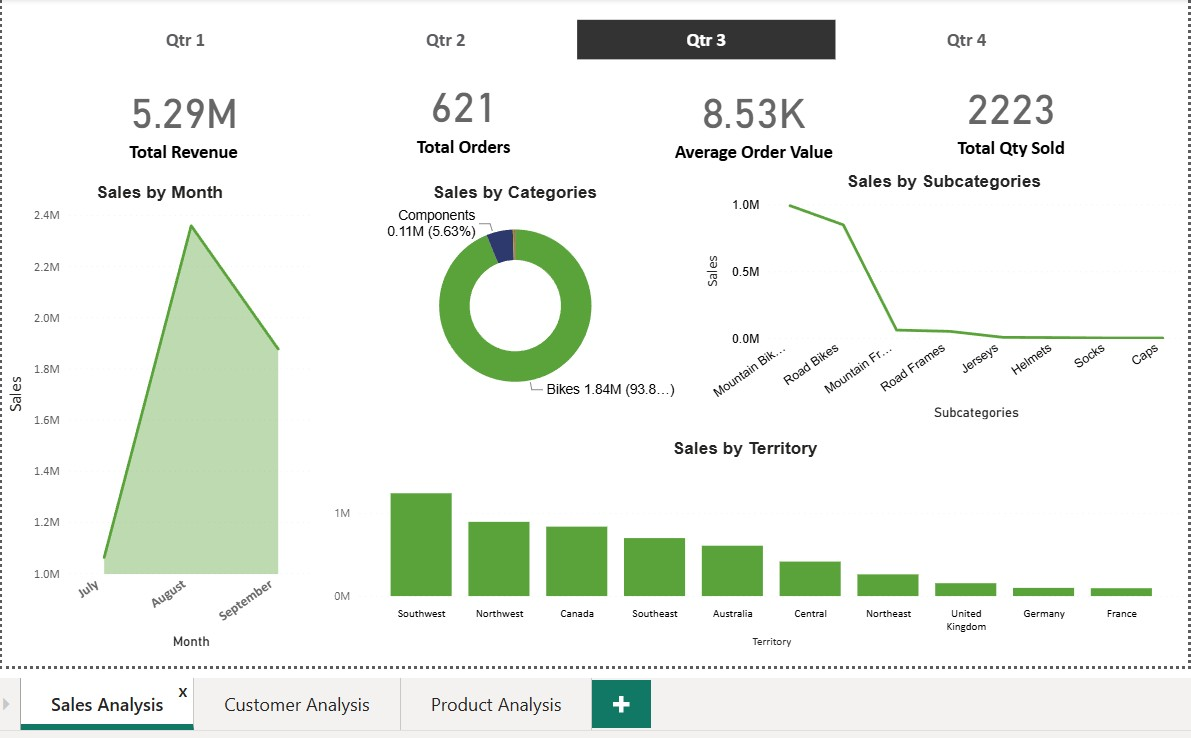

Layout of this report page (visuals, bound fields, positions):
{"tool":"powerbi","page":{"name":"Sales Analysis","canvas":[1280,720],"ordinal":0},"visuals":[{"type":"columnChart","fields":{"Y":["Sum(salesorderheader.SubTotal)"],"Category":["salesterritory.TName"]},"box":[323.6,475.7,956.2,229.8],"z":0},{"type":"card","fields":{"Values":["salesorderheader.Total Revenue"]},"box":[81.1,76.3,228.9,111.3],"z":1000},{"type":"card","fields":{"Values":["salesorderheader.Total Orders"]},"box":[377,69.6,241.1,111.6],"z":2000},{"type":"card","fields":{"Values":["salesorderheader.Average Sales Order"]},"box":[687.6,80.9,245.9,100.3],"z":3000},{"type":"card","fields":{"Values":["customer.Total_Qty_sold"]},"box":[972.4,74.4,231.4,105.2],"z":4000},{"type":"donutChart","fields":{"Category":["productcategory.CategoryName"],"Y":["Sum(salesorderdetail.LineTotal)"]},"box":[339.8,199,427.1,244.3],"z":5000},{"type":"lineChart","fields":{"Category":["productsubcategory.SubcategoryName"],"Y":["Sum(salesorderdetail.LineTotal)"]},"box":[752.4,187.7,527.5,271.8],"z":6000},{"type":"stackedAreaChart","fields":{"Category":["salesorderheader.OrderDate.Variation.Date Hierarchy.Month"],"Y":["Sum(salesorderheader.SubTotal)"]},"box":[0,198.7,340.1,507],"z":7000},{"type":"slicer","fields":{"Values":["salesorderheader.OrderDate.Variation.Date Hierarchy.Quarter"]},"box":[31.8,15.9,1171.4,57.2],"z":8000}]}

Visuals, with their boxes on the page's 1280x720 design canvas (x1, y1, x2, y2). These are canvas units, not pixel positions in the 1191x738 screenshot, which may show the page scaled, cropped or inside an application window:
columnChart - Sum(salesorderheader.SubTotal) x salesterritory.TName: bbox=(324, 476, 1280, 706)
card - salesorderheader.Total Revenue: bbox=(81, 76, 310, 188)
card - salesorderheader.Total Orders: bbox=(377, 70, 618, 181)
card - salesorderheader.Average Sales Order: bbox=(688, 81, 934, 181)
card - customer.Total_Qty_sold: bbox=(972, 74, 1204, 180)
donutChart - productcategory.CategoryName x Sum(salesorderdetail.LineTotal): bbox=(340, 199, 767, 443)
lineChart - productsubcategory.SubcategoryName x Sum(salesorderdetail.LineTotal): bbox=(752, 188, 1280, 460)
stackedAreaChart - salesorderheader.OrderDate.Variation.Date Hierarchy.Month x Sum(salesorderheader.SubTotal): bbox=(0, 199, 340, 706)
slicer - salesorderheader.OrderDate.Variation.Date Hierarchy.Quarter: bbox=(32, 16, 1203, 73)
